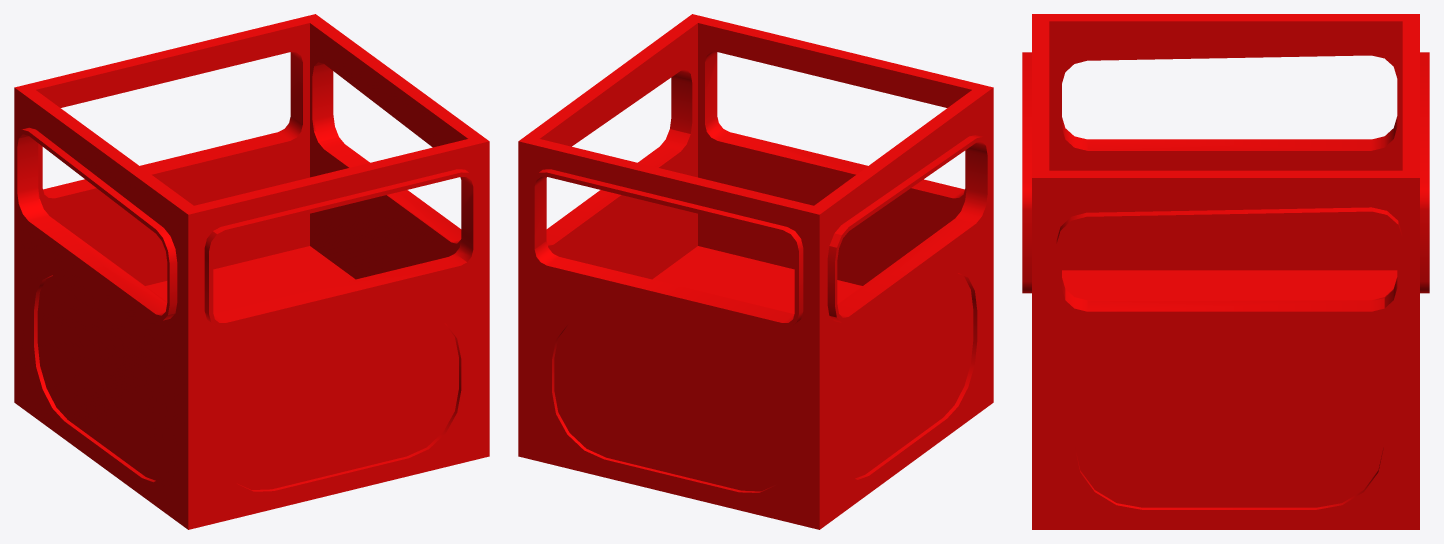
File: beveragecontiner.fbx
The picture shows the model from 3 angles, left to right: view 1: azimuth 30°, elevation 25°; view 2: azimuth 150°, elevation 25°; view 3: azimuth 270°, elevation 25°; orthographic projection. The views are drawn at different scales.
Parts seen in each view (by area): view 1: Cube.071; view 2: Cube.071; view 3: Cube.071.
Boxes of the visible parts, left/top/right/bottom form: Cube.071: left=14, top=14, right=489, bottom=529; Cube.071: left=518, top=14, right=993, bottom=529; Cube.071: left=1022, top=14, right=1429, bottom=529.
Bounding box in the file's own units: 54.16 × 51.59 × 54.16.
